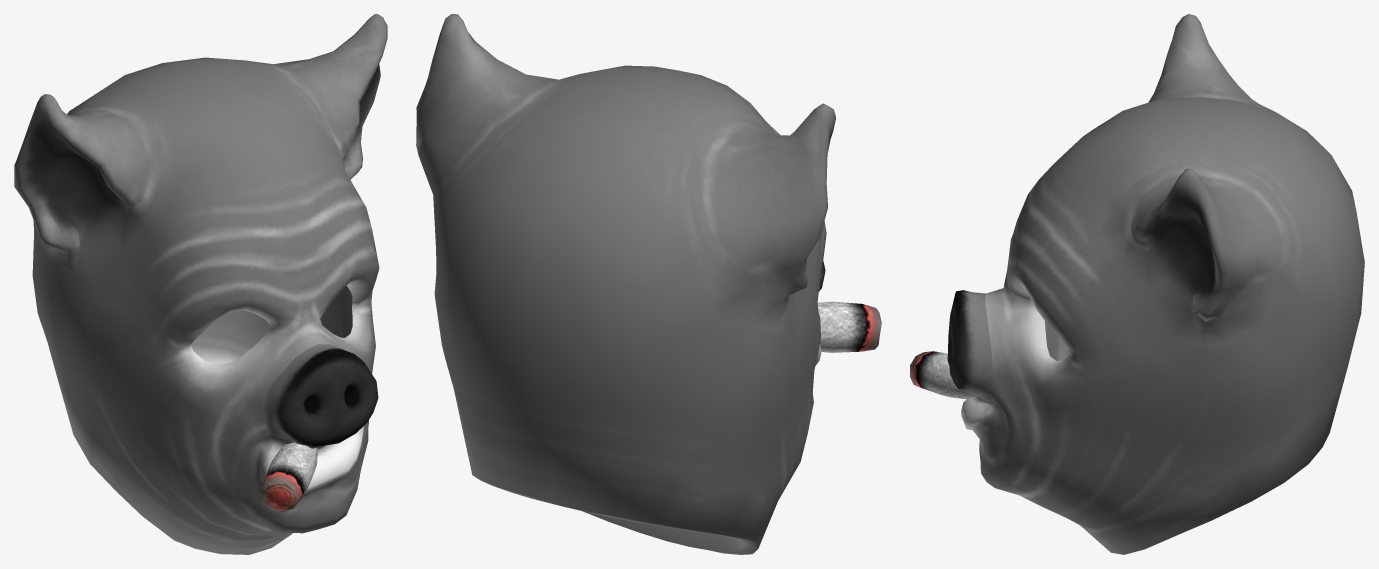
File: SurvivorMale_Head_Mask_Pig_LOD0.glb
3 views of the same model, side by side, from view 1: azimuth 30°, elevation 25°; view 2: azimuth 150°, elevation 25°; view 3: azimuth 270°, elevation 25° (orthographic). The views are drawn at different scales.
Parts seen in each view (by area): view 1: Hoodie; view 2: Hoodie; view 3: Hoodie.
Part boxes in pixels (bbox=[...]): Hoodie: bbox=[14, 14, 387, 554]; Hoodie: bbox=[416, 14, 881, 554]; Hoodie: bbox=[910, 14, 1364, 554].
Size of the model in its own units: 0.2491 by 0.3042 by 0.2798.
1 material, 1 textured.
